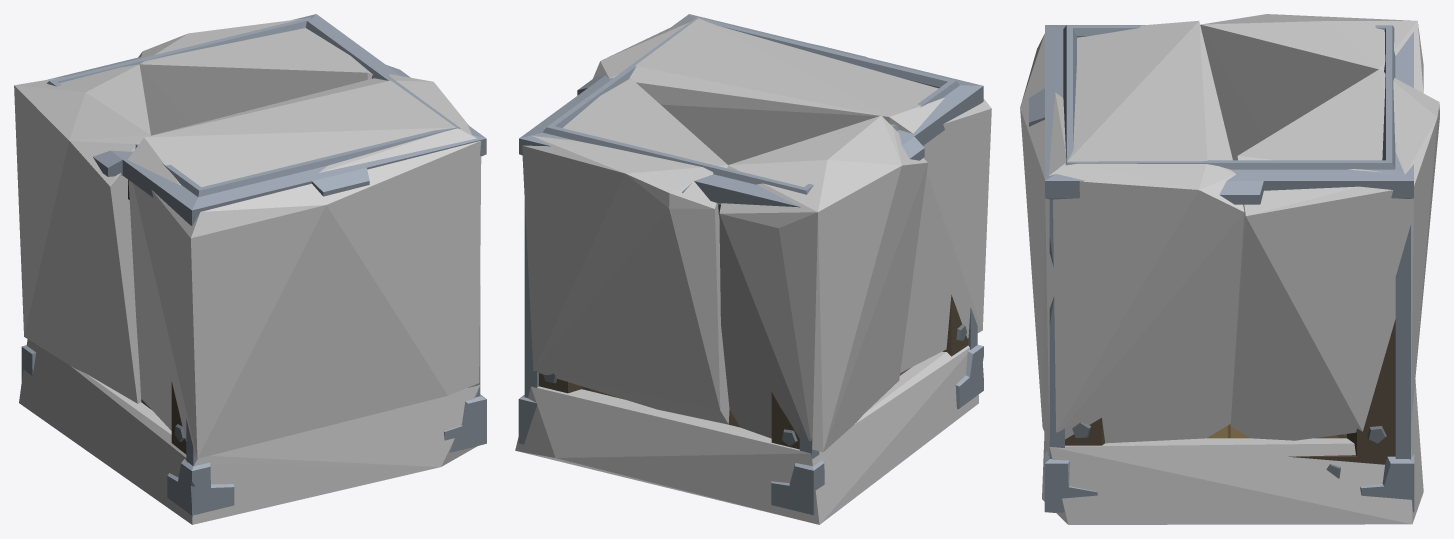
The model's file is SM_Prop_Crate_03.fbx.
3 views of the same model, side by side, from view 1: azimuth 30°, elevation 25°; view 2: azimuth 150°, elevation 25°; view 3: azimuth 270°, elevation 25° (orthographic). The views are drawn at different scales.
Parts seen in each view (by area): view 1: SM_Prop_Crate_03_ConvexHulls, SM_Prop_Crate_03; view 2: SM_Prop_Crate_03_ConvexHulls, SM_Prop_Crate_03; view 3: SM_Prop_Crate_03_ConvexHulls, SM_Prop_Crate_03.
Part boxes in pixels (left/top/right/bottom): SM_Prop_Crate_03_ConvexHulls: left=14, top=17, right=481, bottom=524; SM_Prop_Crate_03: left=21, top=14, right=486, bottom=515; SM_Prop_Crate_03_ConvexHulls: left=515, top=16, right=991, bottom=524; SM_Prop_Crate_03: left=518, top=14, right=983, bottom=515; SM_Prop_Crate_03_ConvexHulls: left=1020, top=14, right=1439, bottom=524; SM_Prop_Crate_03: left=1029, top=25, right=1414, bottom=512.
Bounding box in the file's own units: 98.93 × 98.65 × 93.57.
Materials: 2 (1 with a texture image).
